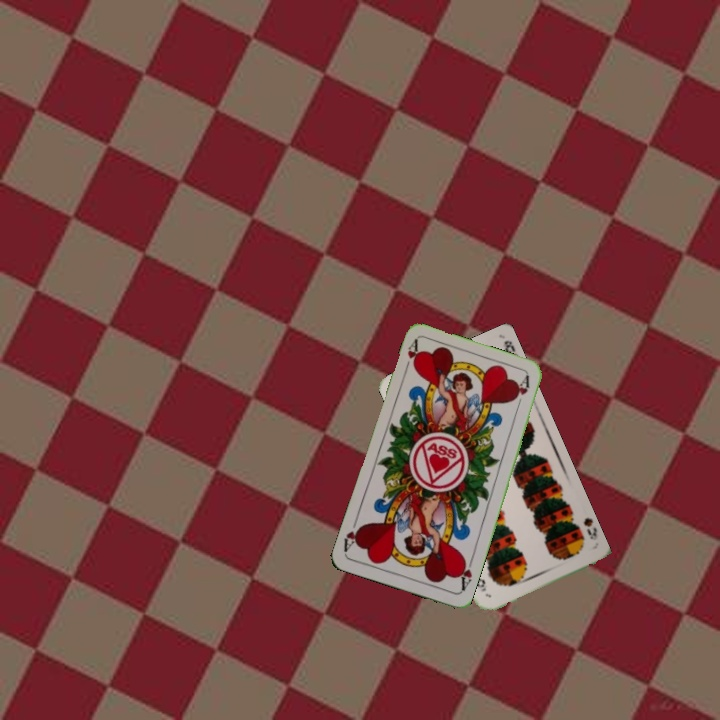HA: (400, 336, 423, 376), (454, 553, 475, 594)
S8: (579, 513, 600, 543)
